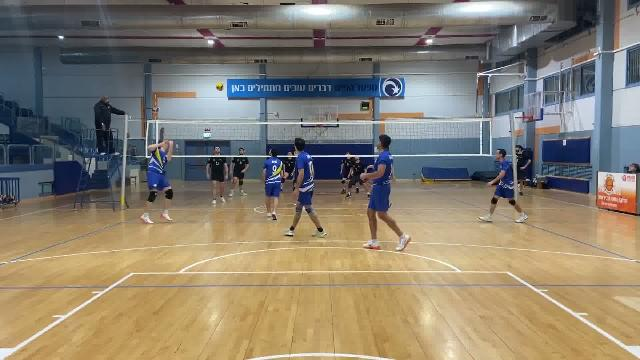ball: (214, 80, 225, 90)
